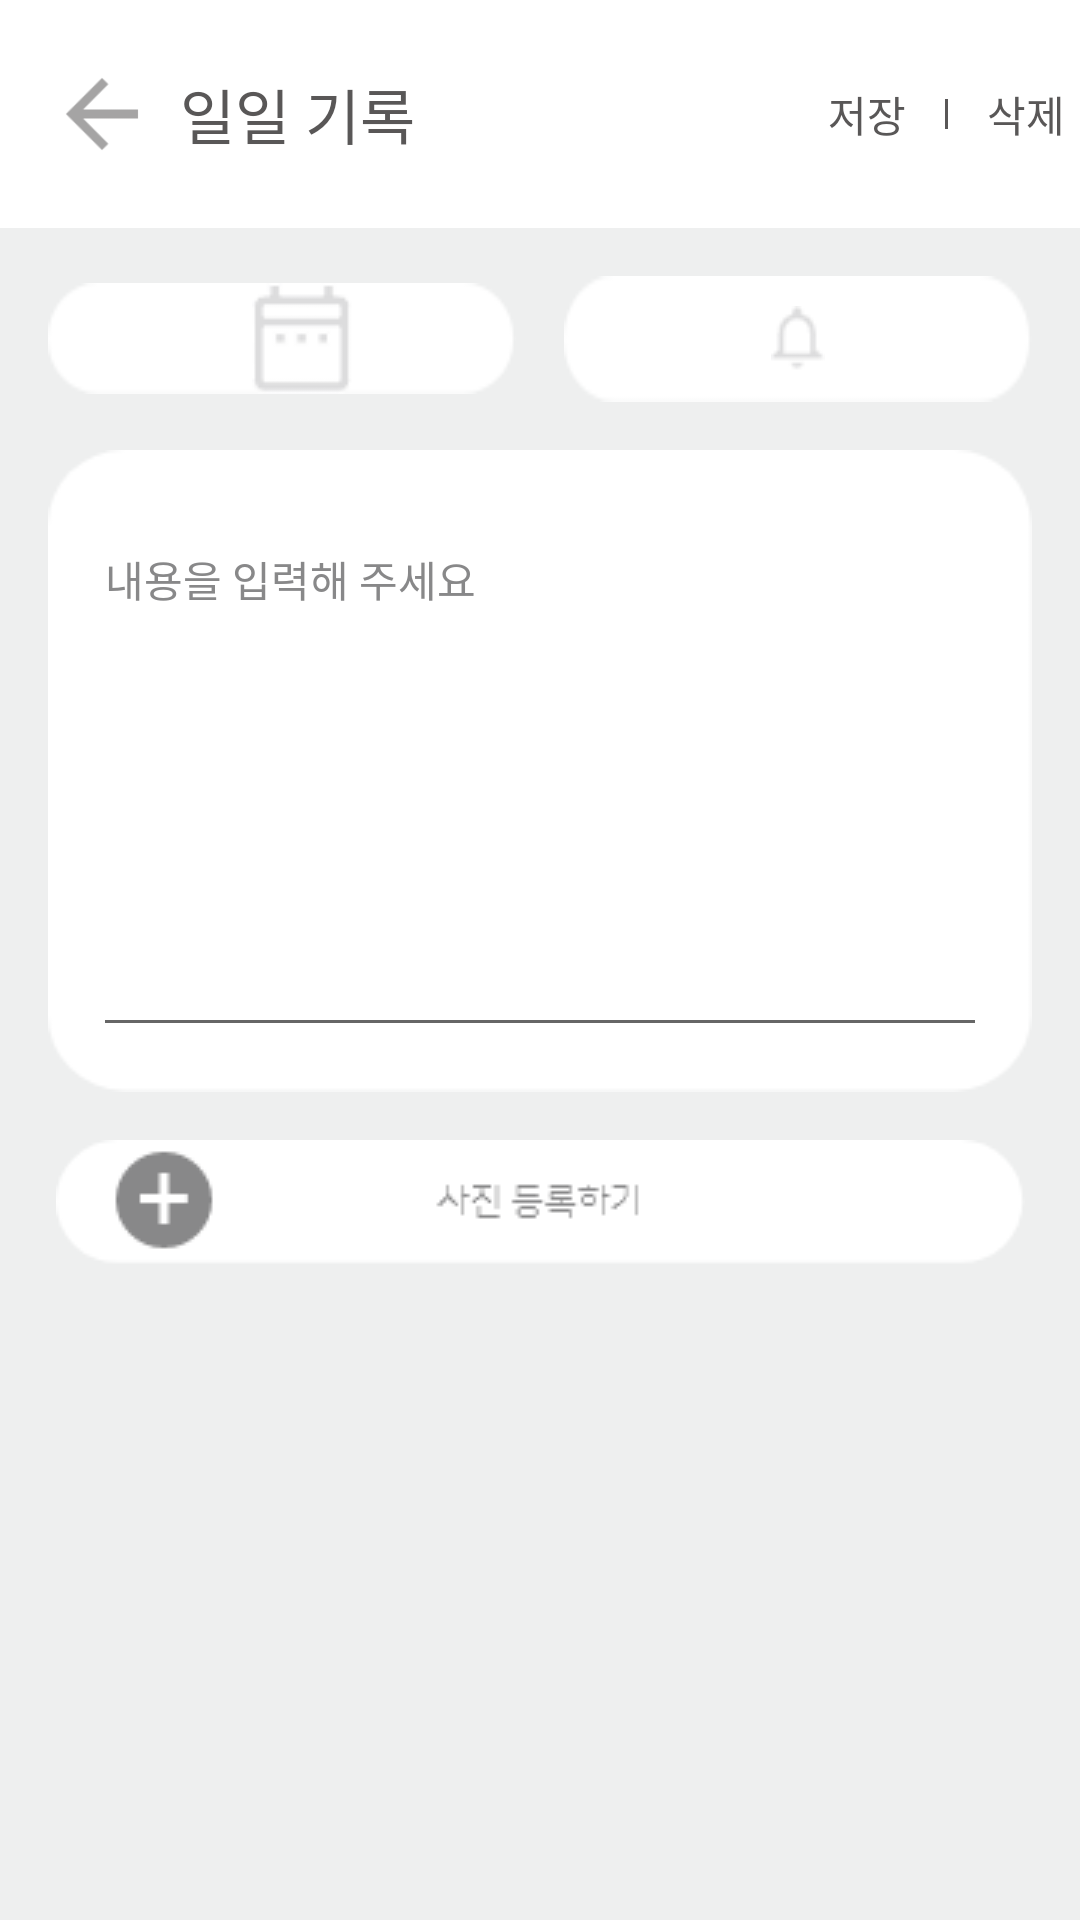

Named icons in this screenshot (1080px x 1920px) and their centers, (x=x, y=y):
arrow back: (x=102, y=114)
